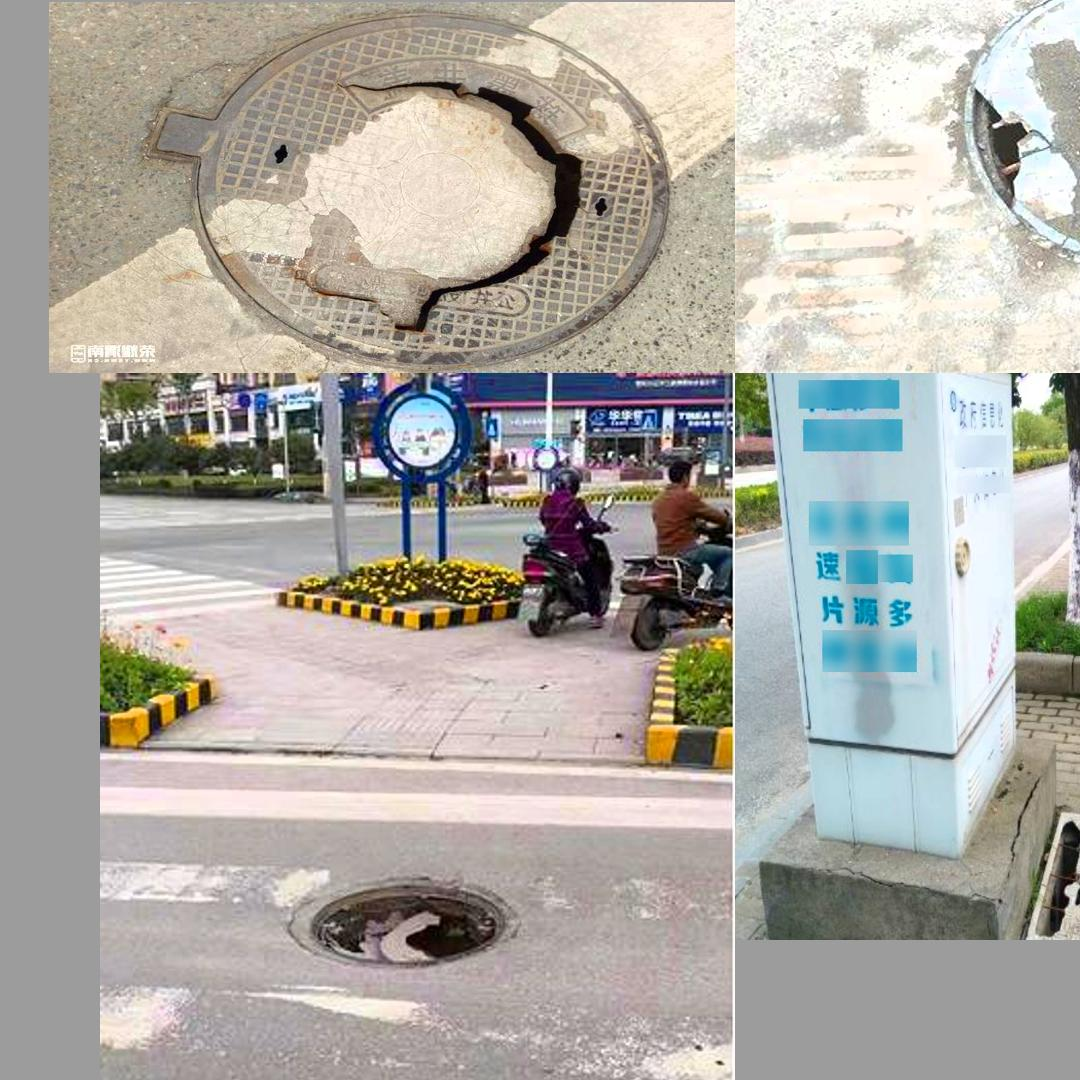broke: (183, 7, 681, 369), (266, 845, 535, 996), (943, 0, 1080, 286), (1018, 808, 1080, 940)
